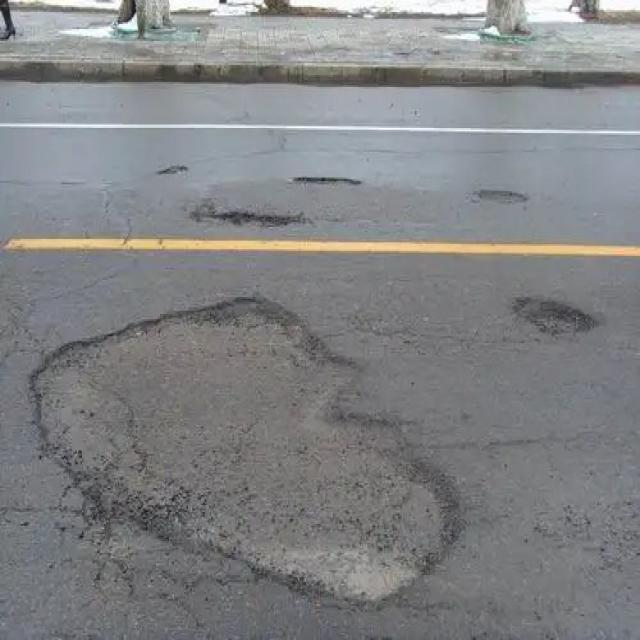Pothole: (29, 292, 463, 606), (504, 294, 596, 339), (187, 208, 315, 227), (466, 186, 529, 203), (288, 174, 362, 186), (157, 160, 185, 176)
